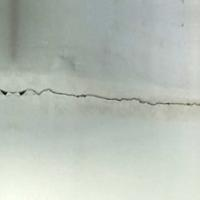crack: (0, 68, 198, 125)
